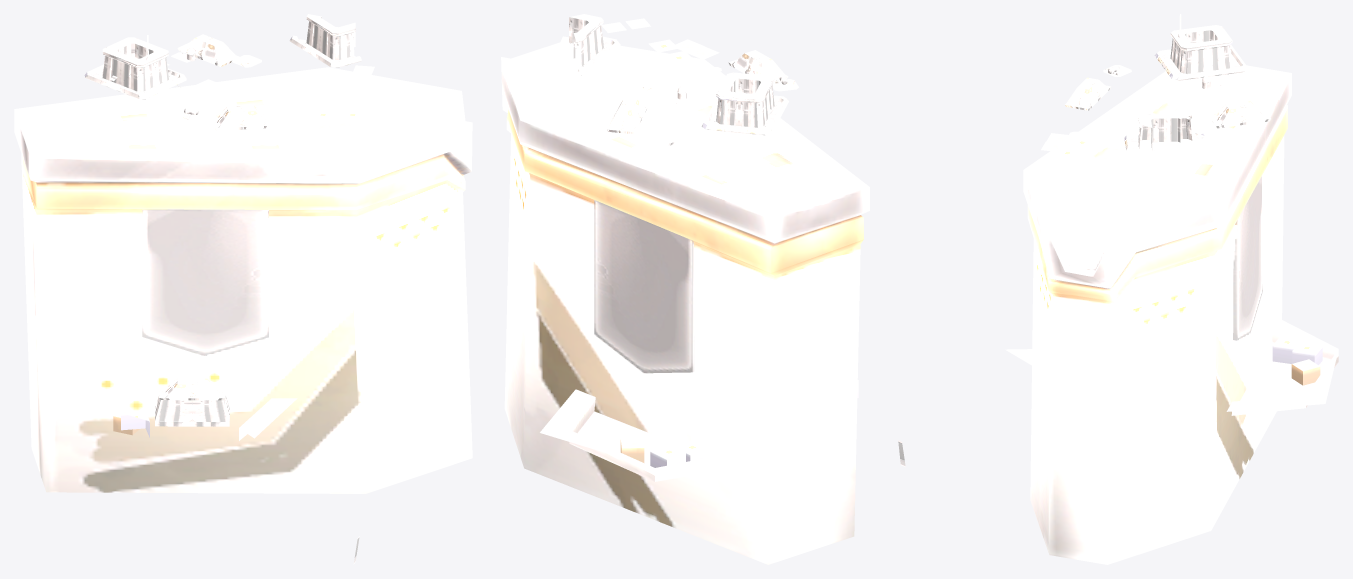
The model's file is District_1_3.fbx.
3 views of the same model, side by side, from view 1: azimuth 30°, elevation 25°; view 2: azimuth 150°, elevation 25°; view 3: azimuth 270°, elevation 25° (orthographic). The views are drawn at different scales.
Visible parts, largest first — view 1: District_1_3; view 2: District_1_3; view 3: District_1_3.
Part boxes in pixels (<box>): District_1_3: <box>14,14,472,564</box>; District_1_3: <box>501,14,869,564</box>; District_1_3: <box>898,14,1338,564</box>.
Size of the model in its own units: 680 by 726 by 687.
